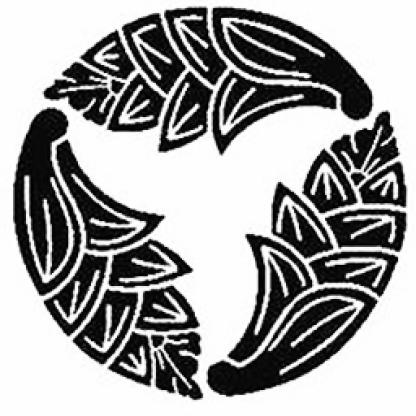kamon: (12, 7, 410, 403)
